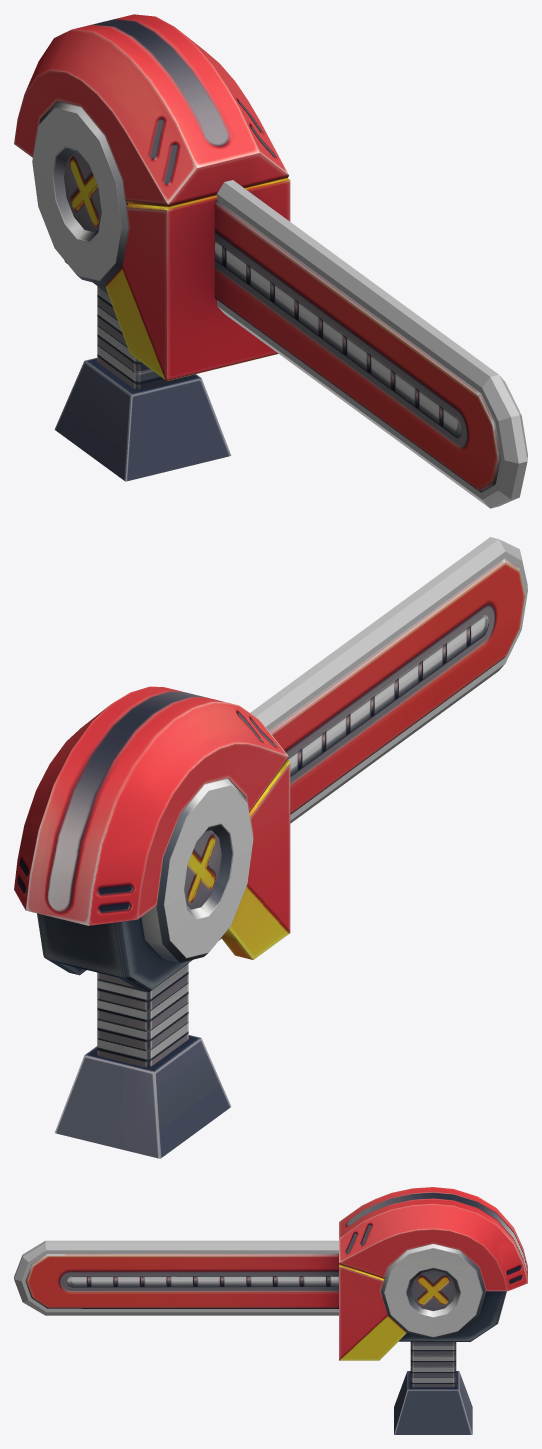
File: upper_chainsaw_arena_3.fbx
3 views of the same model, one above another, from view 1: azimuth 30°, elevation 25°; view 2: azimuth 150°, elevation 25°; view 3: azimuth 270°, elevation 25° (orthographic). The views are drawn at different scales.
Parts seen in each view (by area): view 1: Cube.229; view 2: Cube.229; view 3: Cube.229.
Boxes of the visible parts, left/top/right/bottom form: Cube.229: left=14, top=14, right=527, bottom=508; Cube.229: left=14, top=537, right=527, bottom=1158; Cube.229: left=14, top=1187, right=527, bottom=1434.
Bounding box in the file's own units: 45.65 × 135 × 279.
